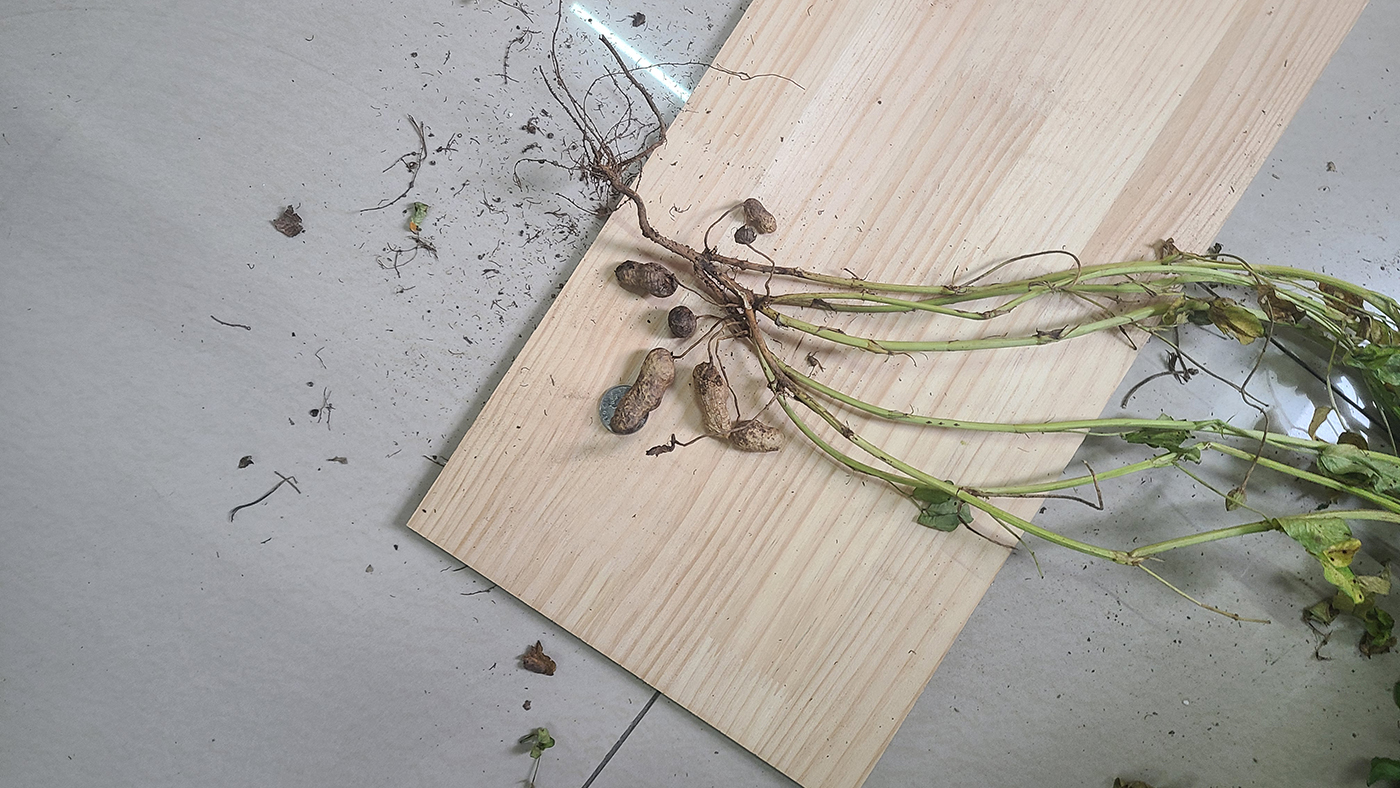h: (731, 421, 786, 452)
l: (611, 347, 674, 433), (692, 365, 732, 438), (617, 260, 677, 298), (743, 198, 778, 234), (668, 306, 696, 339), (646, 437, 677, 458), (734, 226, 757, 244)
